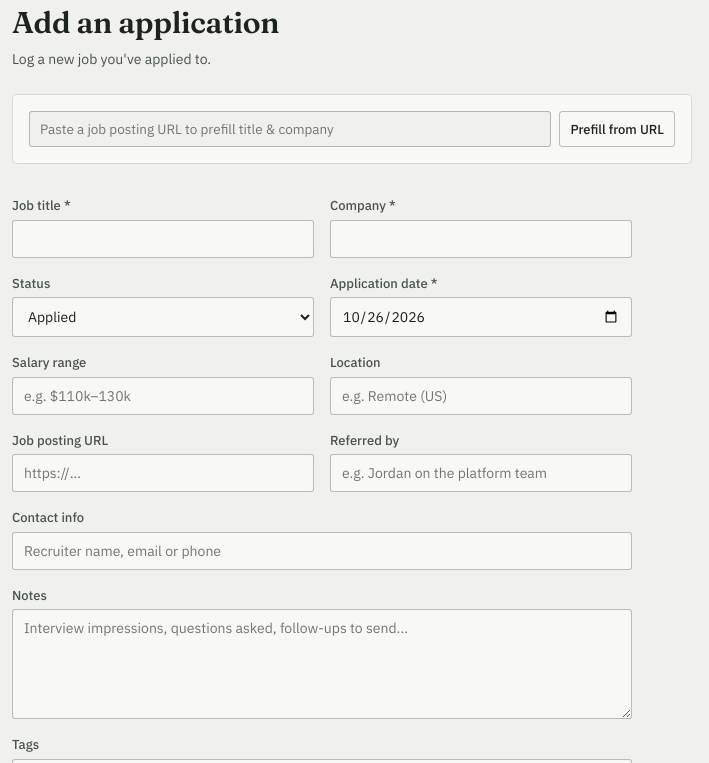
Test: NewJobPage URL prefill › updates the form when prefill is requested for another URL
The width and height of the screenshot is (709, 763).
Type "https://jobs.example.com/first" into the field with placeholder "Paste a job posting URL to prefill title & company". click: {"x": 290, "y": 129}
box: [29,111,551,147]
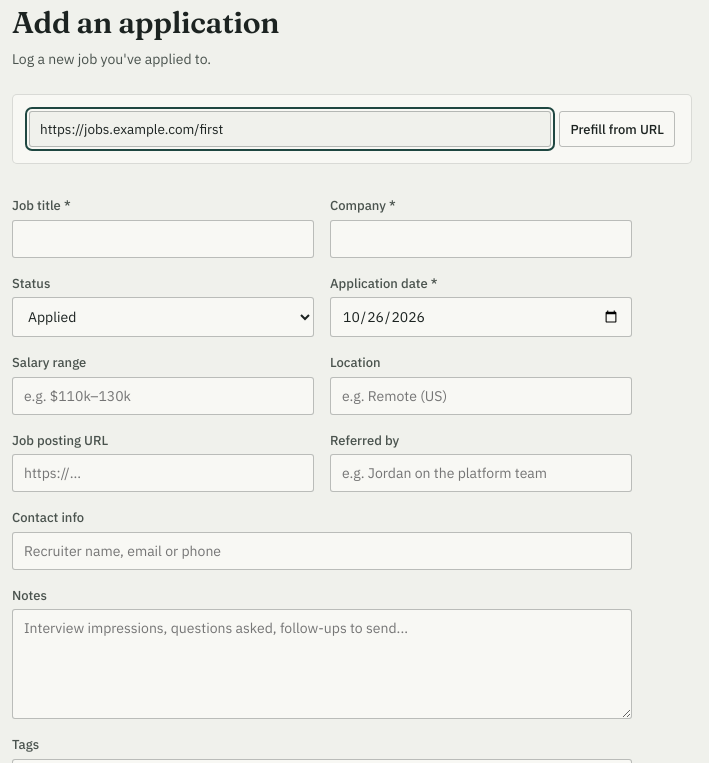
Click the button "Prefill from URL". click: {"x": 617, "y": 129}
box: [559,111,675,147]
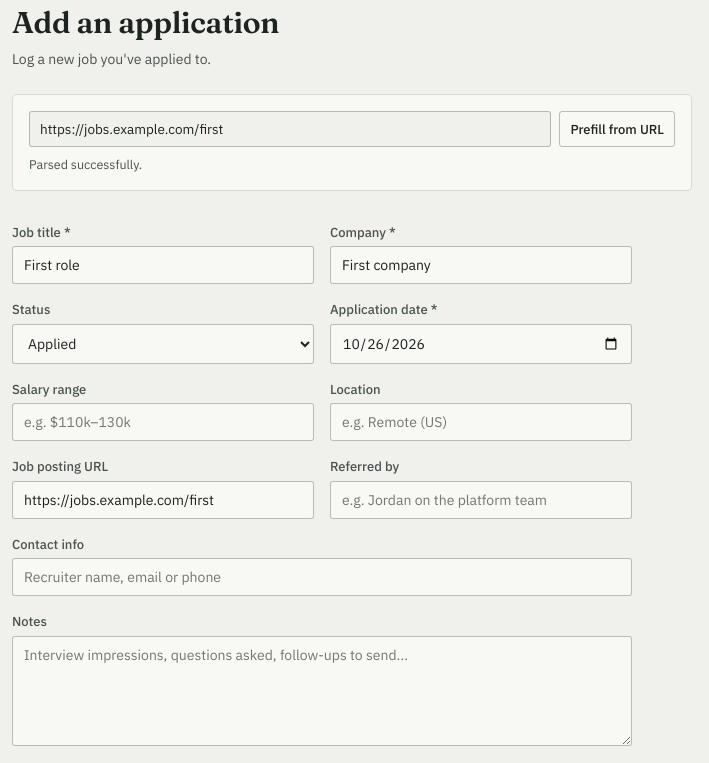
Expected: the field labelled "Job title *" holds "First role", [12,246,314,284]
Expected: the field labelled "Job posting URL" holds "https://jobs.example.com/first", [12,481,314,519]
Replace the text in the field with placeholder "Paste a job posting URL to prefill title & company" with "https://jobs.example.com/second". click: {"x": 290, "y": 129}
box: [29,111,551,147]
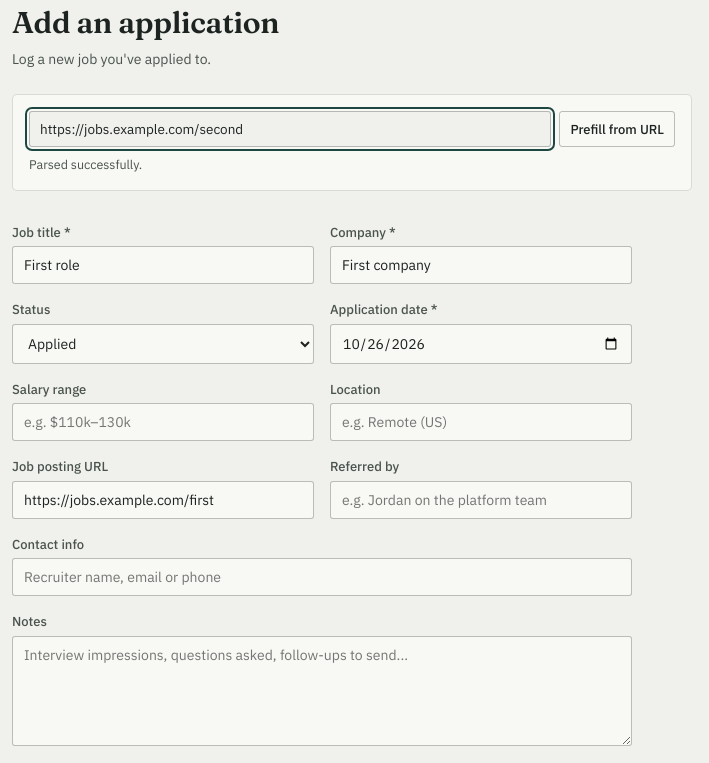
Click the button "Prefill from URL". click: {"x": 617, "y": 129}
box: [559,111,675,147]
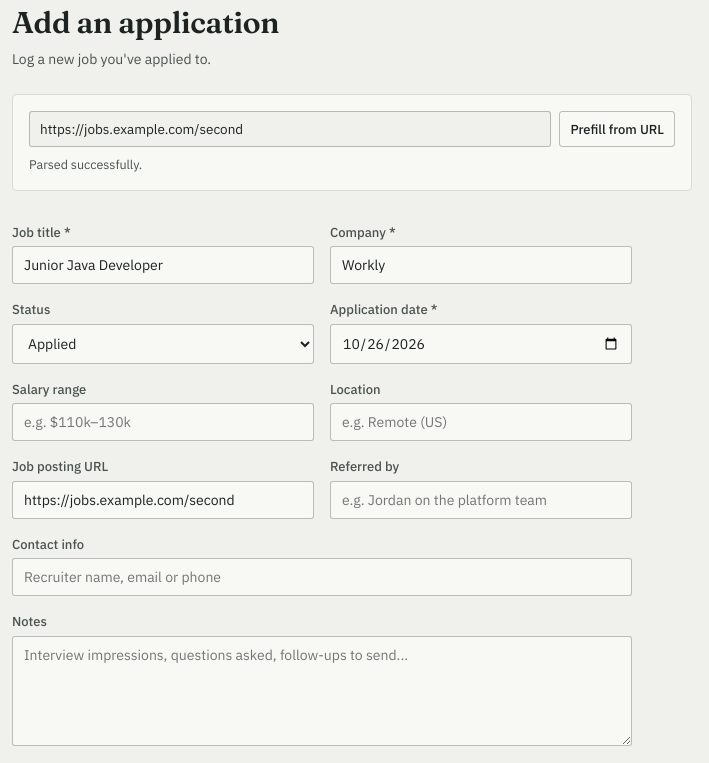
Expected: the field labelled "Job title *" holds "Junior Java Developer", [12,246,314,284]
Expected: the field labelled "Company *" holds "Workly", [330,246,632,284]
Expected: the field labelled "Job posting URL" holds "https://jobs.example.com/second", [12,481,314,519]
